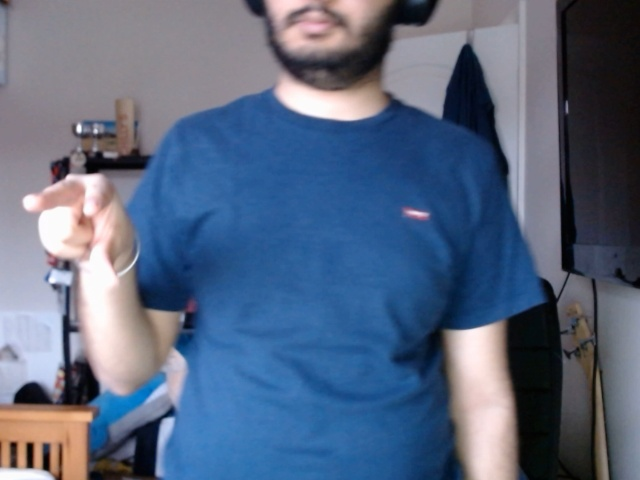No: (14, 162, 139, 302)
